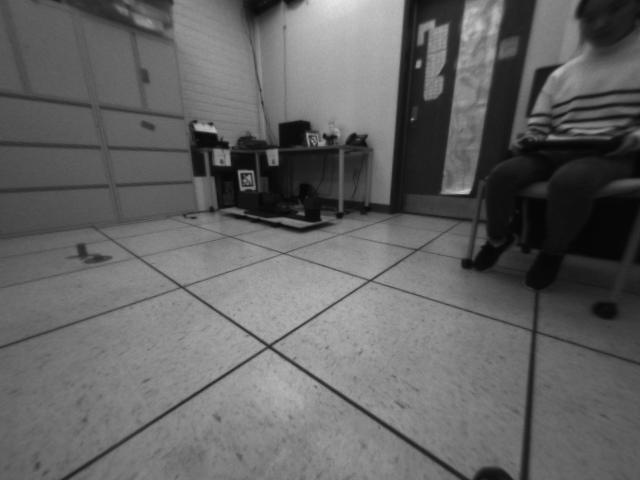X: (66, 243, 98, 259)
